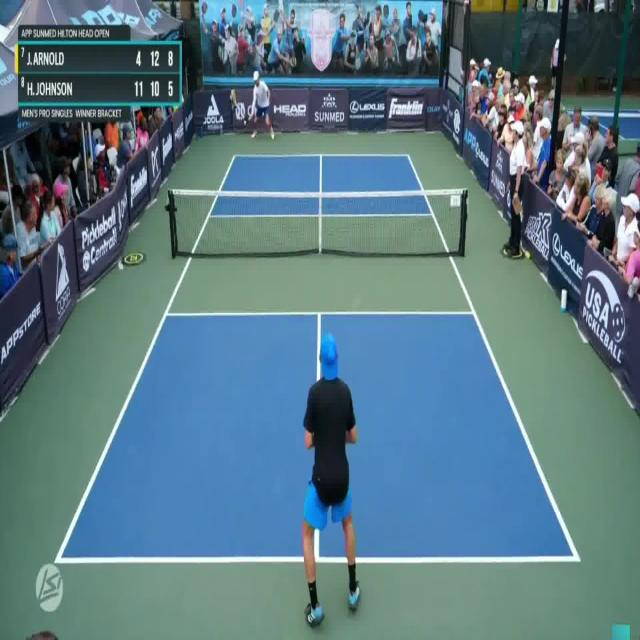Court: (52, 152, 583, 565)
ball: (242, 116, 248, 131)
